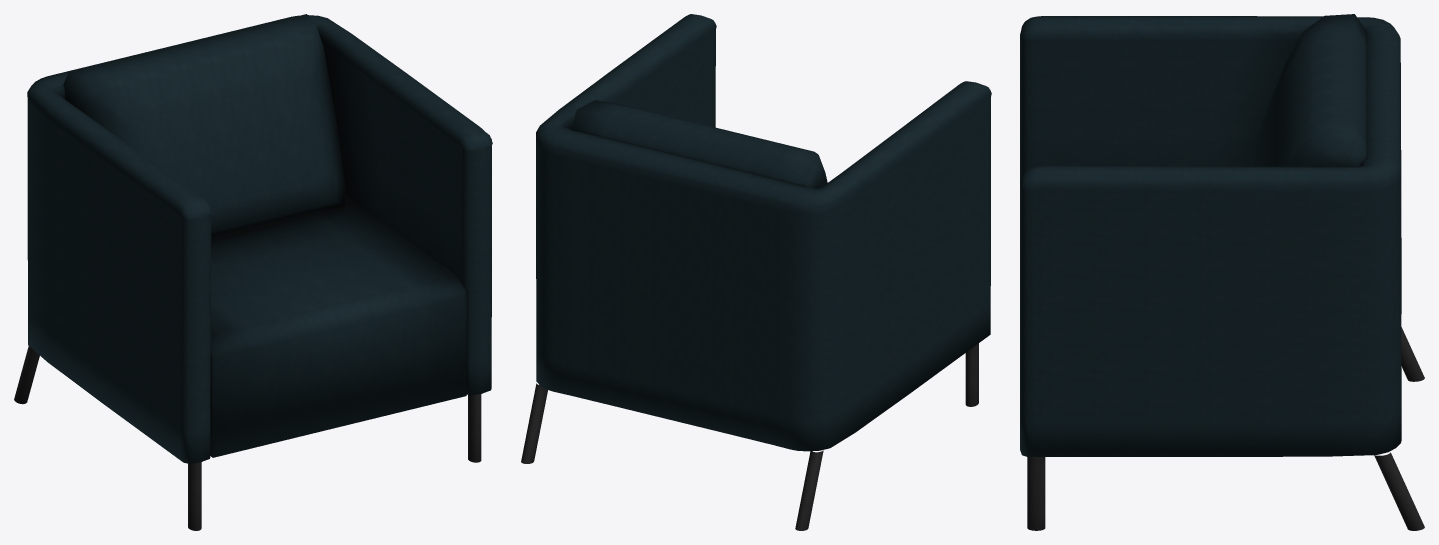
Rendered from ik-ekero-blue_baked.glb.
3 renders of one model, left to right at view 1: azimuth 30°, elevation 25°; view 2: azimuth 150°, elevation 25°; view 3: azimuth 270°, elevation 25°, orthographic. The views are drawn at different scales.
Visible parts, largest first — view 1: Mesh_0.026; view 2: Mesh_0.026; view 3: Mesh_0.026.
Boxes of the visible parts, left/top/right/bottom form: Mesh_0.026: left=14, top=14, right=492, bottom=530; Mesh_0.026: left=521, top=14, right=991, bottom=530; Mesh_0.026: left=1020, top=14, right=1424, bottom=530.
Size of the model in its own units: 70 by 75 by 73.
Materials: 1 (1 with a texture image).
